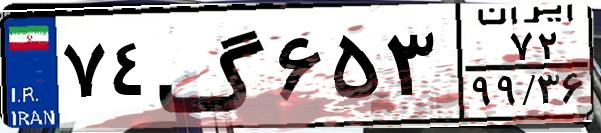2: (537, 27, 568, 80)
3: (385, 28, 445, 110), (535, 70, 560, 125)
4: (110, 28, 156, 98)
5: (330, 28, 385, 110)
6: (270, 28, 330, 110), (560, 70, 590, 125)
7: (57, 26, 110, 100), (508, 27, 537, 80)
9: (470, 70, 495, 125), (495, 70, 520, 125)
گ: (156, 12, 270, 120)
